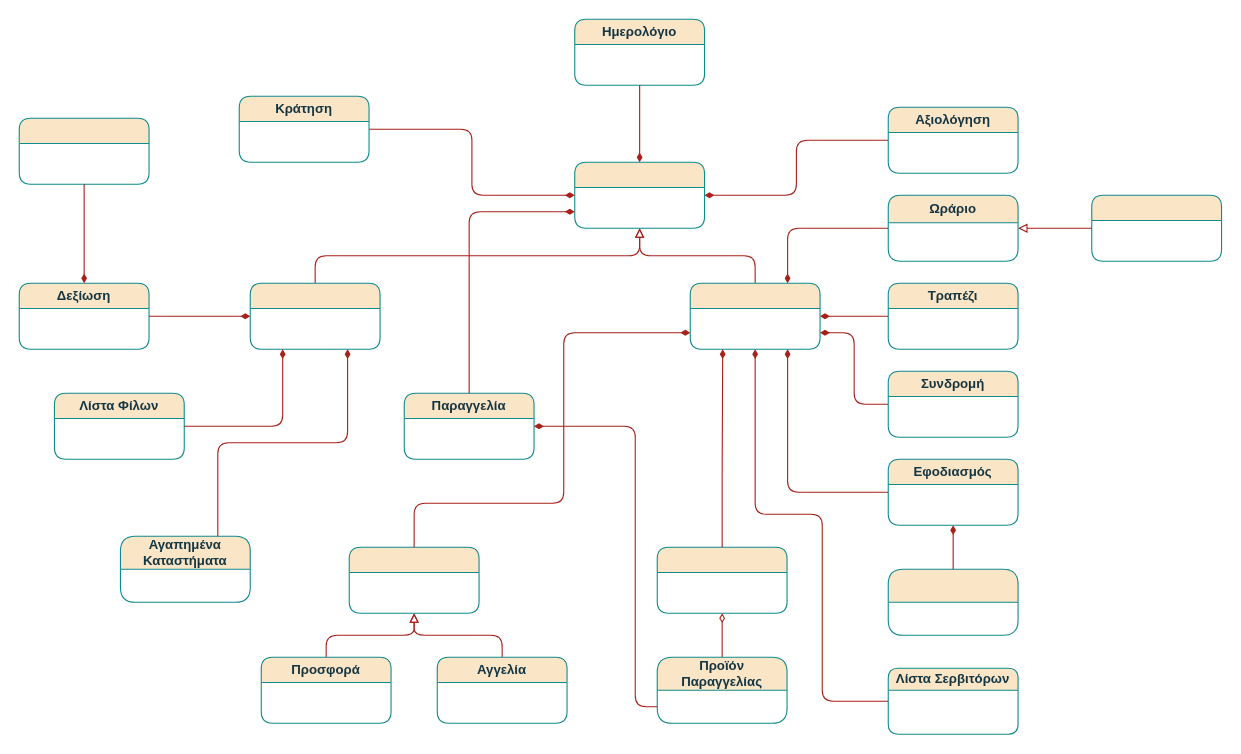
Image size: 1241x754. Some labels were removed from this diagram. Each missing label, with the centre of its shape:
Κατάστημα: point (754, 315)
Μενού: point (721, 579)
Πελάτης: point (314, 315)
Προϊόν Εφοδιασμού: point (952, 601)
Πρόσκληση: point (83, 150)
Πρόταση: point (413, 579)
Χρήστης: point (639, 194)
Ωράριο Σερβιτόρου: point (1156, 227)
